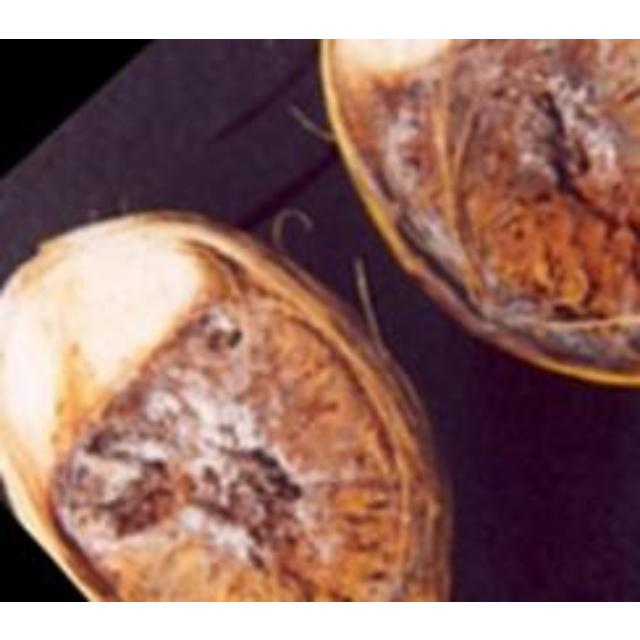damaged: (0, 211, 449, 597), (323, 38, 637, 384)
